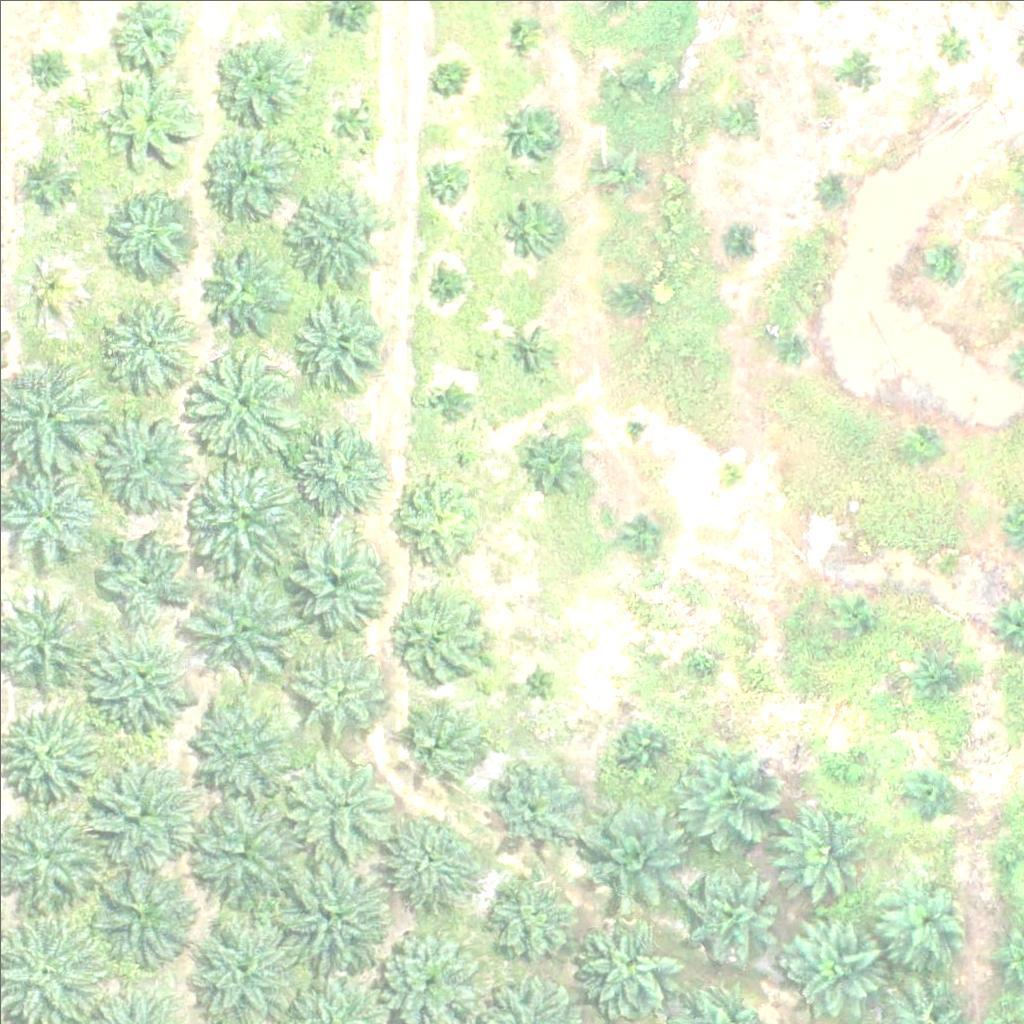Kelapa_Sawit: (271, 853, 396, 979), (180, 789, 305, 915), (182, 453, 307, 578), (182, 334, 307, 459), (572, 793, 685, 906), (187, 909, 300, 1022), (82, 619, 195, 732), (185, 688, 298, 801), (188, 570, 301, 683), (81, 859, 193, 972), (284, 743, 396, 856), (783, 912, 883, 1013), (577, 914, 677, 1015), (380, 803, 480, 904), (92, 519, 192, 620), (97, 410, 197, 511), (294, 649, 394, 750), (283, 532, 383, 633), (286, 413, 386, 514), (289, 285, 389, 386), (391, 694, 491, 795), (389, 588, 489, 689), (384, 467, 484, 568), (678, 740, 778, 841), (99, 75, 199, 176), (281, 183, 381, 284), (87, 760, 187, 860), (775, 801, 875, 901), (98, 293, 186, 382), (688, 870, 776, 958), (213, 38, 301, 126), (201, 130, 289, 218), (194, 243, 282, 331), (878, 872, 965, 961), (489, 761, 576, 850), (490, 869, 577, 957), (105, 198, 192, 286), (526, 424, 589, 487), (500, 97, 562, 160), (620, 722, 670, 773), (509, 206, 559, 257), (593, 149, 643, 200), (21, 158, 71, 208), (20, 258, 70, 308), (325, 96, 375, 146), (420, 160, 470, 210), (914, 649, 964, 699), (901, 772, 951, 822), (615, 277, 653, 315), (823, 749, 861, 787), (832, 598, 870, 636), (680, 642, 718, 680), (518, 661, 556, 699), (712, 452, 750, 490), (421, 383, 459, 421), (923, 240, 960, 278), (505, 11, 543, 48), (428, 266, 465, 304), (510, 333, 547, 371), (715, 223, 753, 260), (840, 47, 877, 85), (598, 65, 636, 102), (426, 62, 463, 100), (629, 513, 666, 551), (932, 552, 969, 590), (936, 23, 973, 61), (818, 175, 855, 212), (721, 97, 758, 134), (901, 430, 938, 467), (770, 332, 807, 369), (31, 55, 56, 80), (622, 416, 647, 441)
